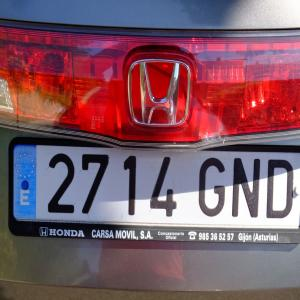Vehicle-registration-plate: (8, 144, 300, 246)
